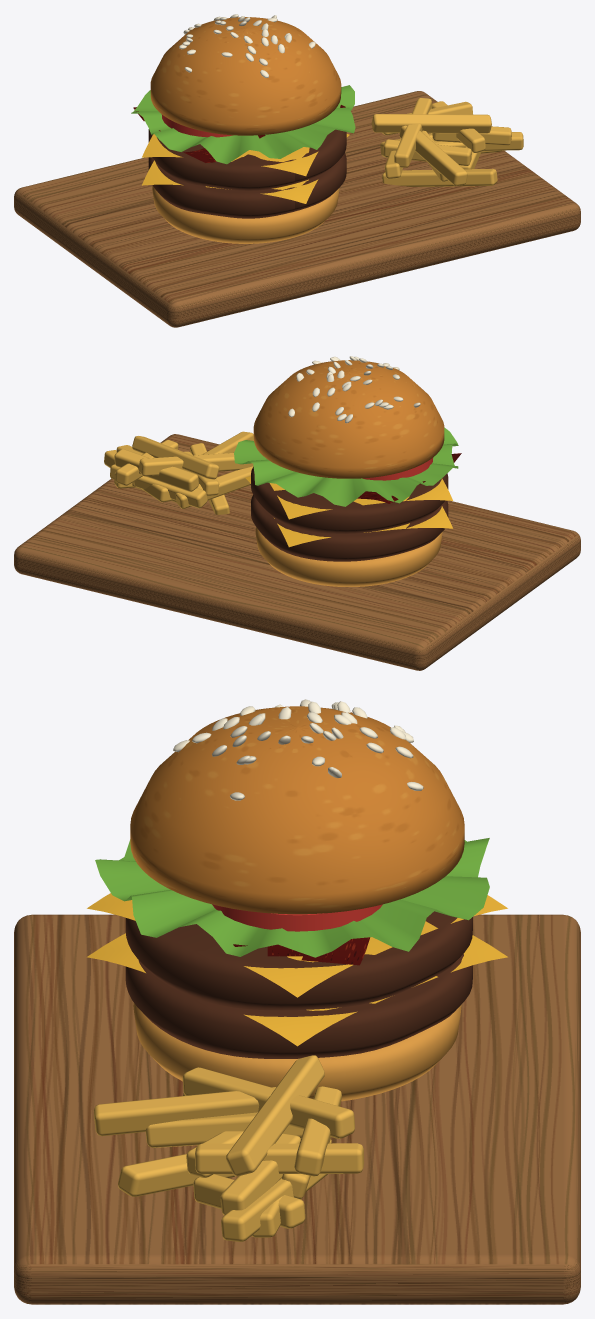
Rendered from x-bacon.glb.
3 renders of one model, top to bottom at view 1: azimuth 30°, elevation 25°; view 2: azimuth 150°, elevation 25°; view 3: azimuth 270°, elevation 25°, orthographic. The views are drawn at different scales.
Size of the model in its own units: 0.2818 by 0.1366 by 0.19.
Materials: 15 (5 with a texture image).
